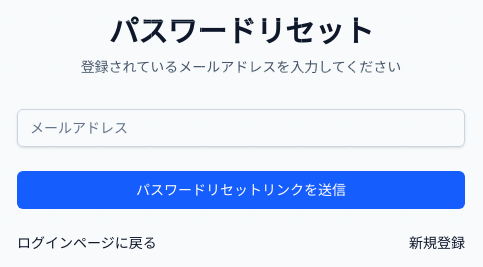
Test: ForgotPasswordPage › form submission › shows loading state during submission
Type "test@example.com" into the field with placeholder "メールアドレス" at (241, 128), box [17, 109, 465, 147]
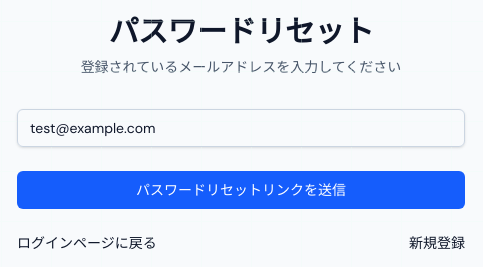
Click the button "パスワードリセットリンクを送信" at (241, 190), box [17, 171, 465, 209]
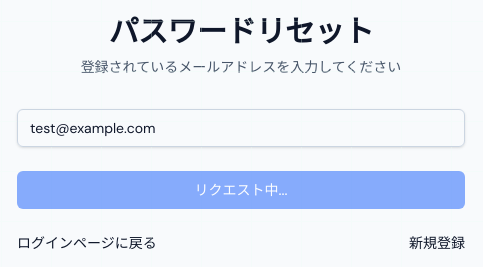
Now the button "リクエスト中..." is shown, box [17, 171, 465, 209]
